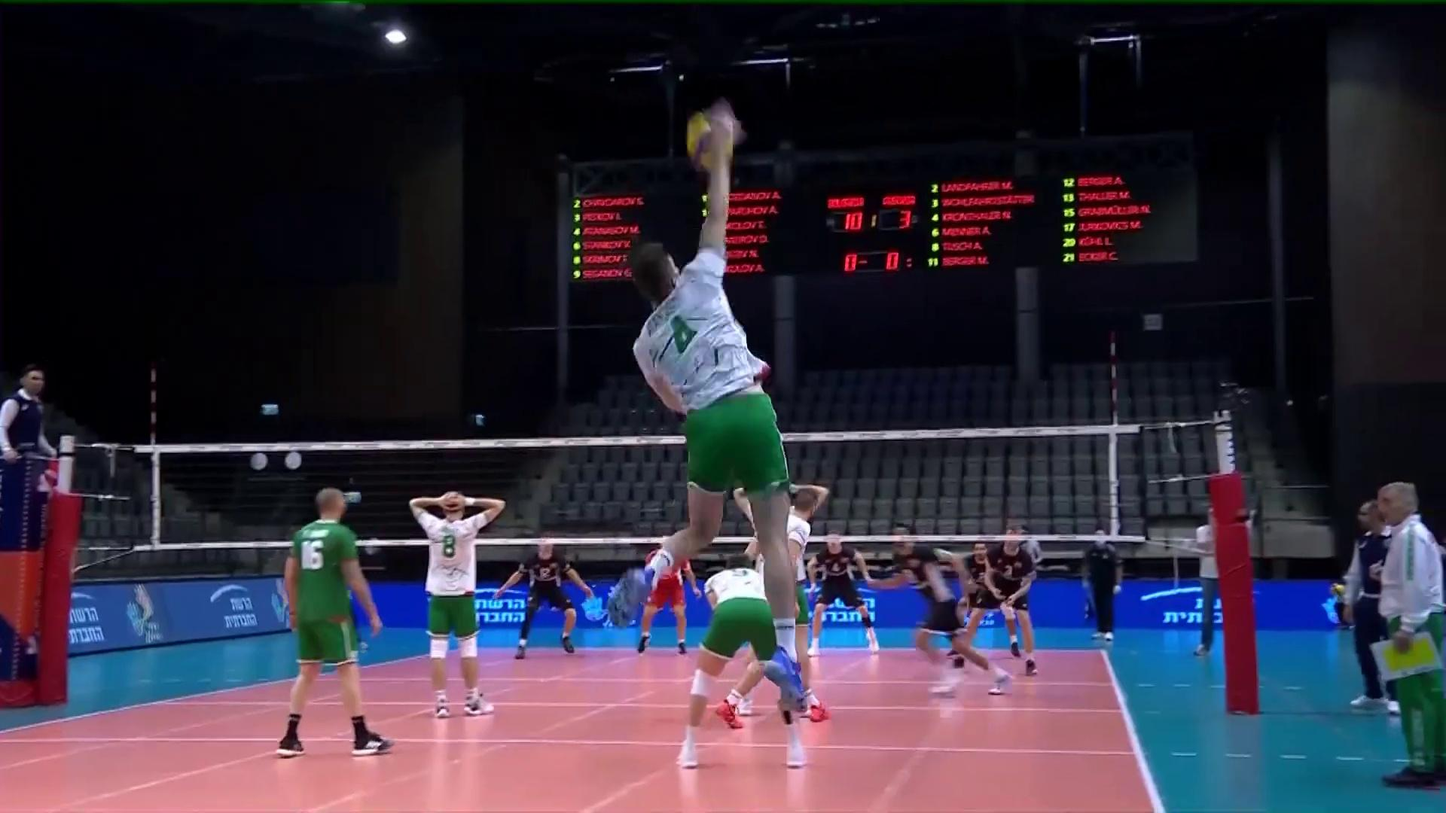ball: (685, 113, 733, 170)
